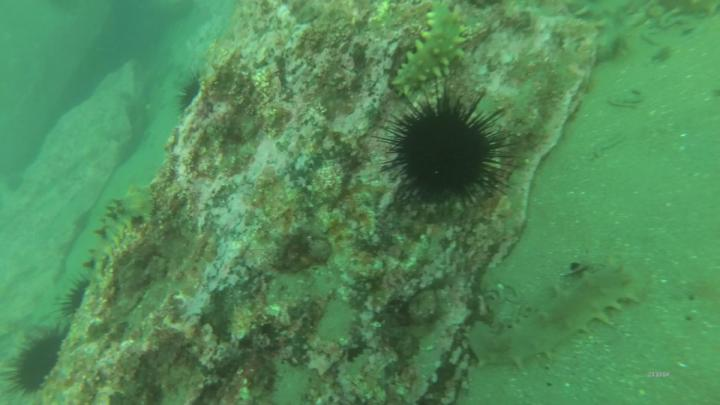echinus: (371, 88, 520, 222), (2, 329, 66, 397)
holothurian: (460, 262, 639, 376), (398, 2, 472, 103)
